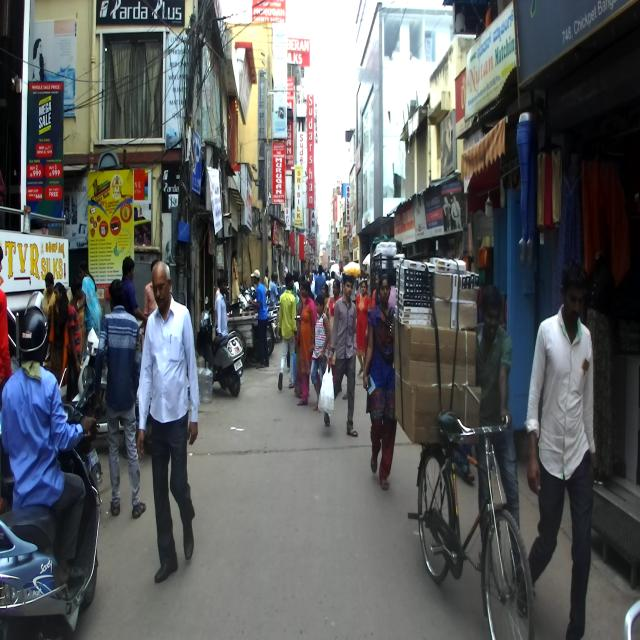bicycle ahead at: (400, 413, 538, 640)
motorcycle ahead at: (0, 510, 63, 640)
person ahead at: (536, 261, 601, 640), (137, 253, 200, 593)
